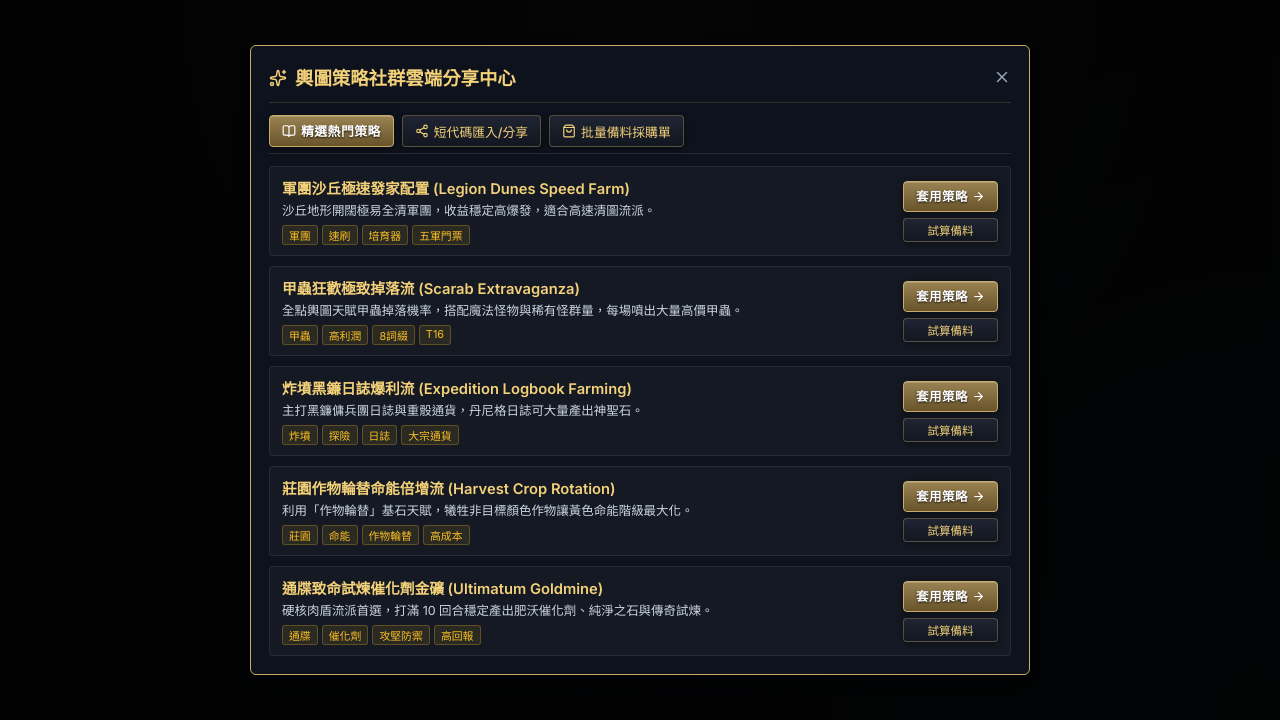
Test: AtlasCommunityHubModal Component (Issue #93) › switches to bulk shopping list tab and displays items
The width and height of the screenshot is (1280, 720).
Click the button "批量備料採購單" at (616, 131), box [549,115,684,147]
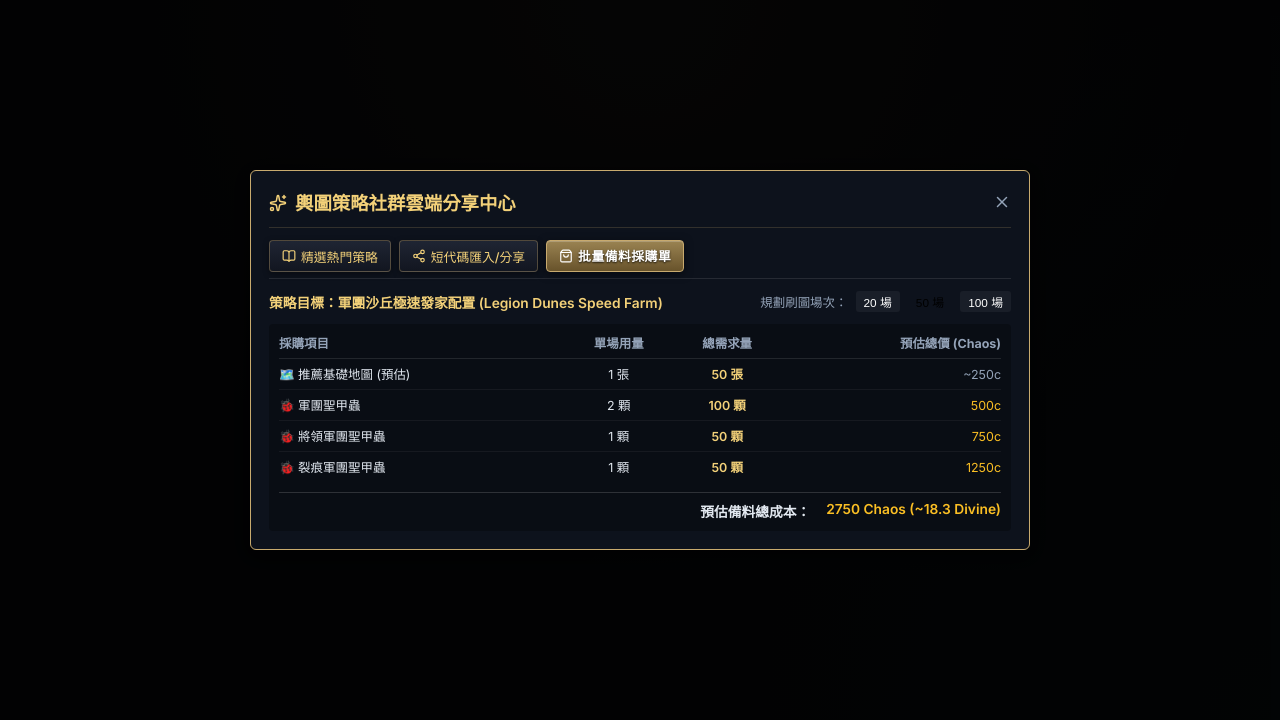
Now the text "預估備料總成本：" is shown, box [700,501,810,521]
Now the button "50 場" is shown, box [908,291,952,312]
